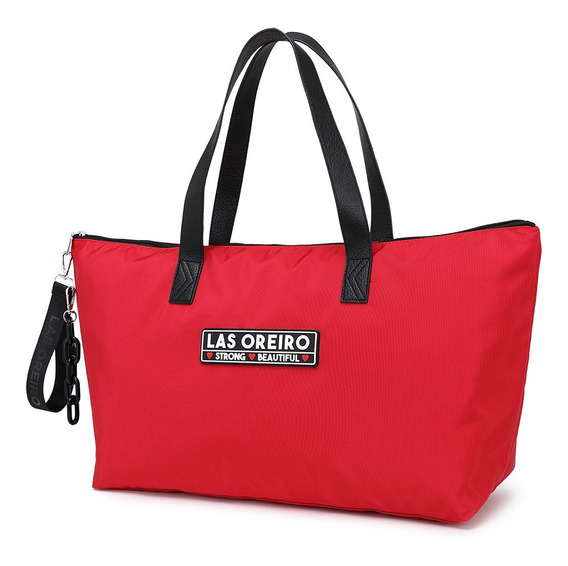cartera: (27, 28, 541, 528)
